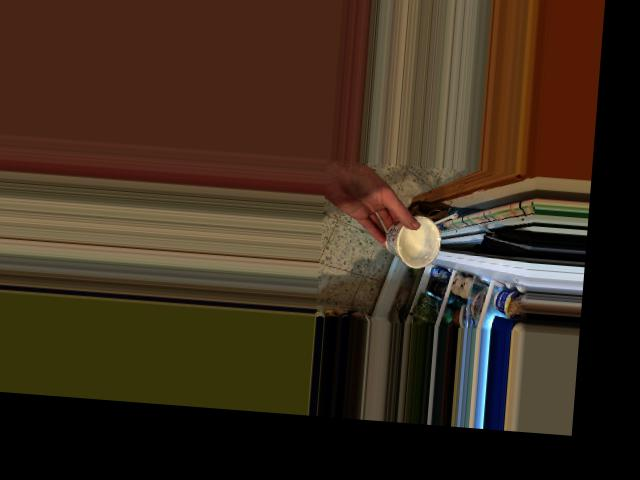cotage: (380, 210, 442, 262)
